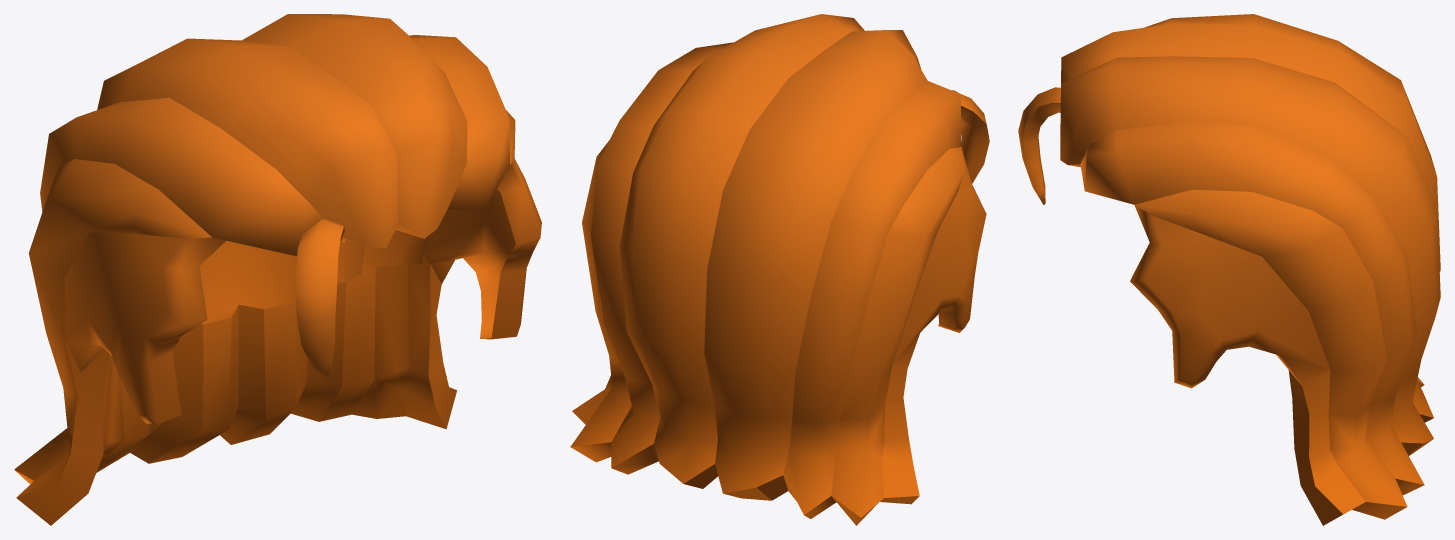
The model's file is Hair_Orange_9.fbx.
3 renders of one model, left to right at view 1: azimuth 30°, elevation 25°; view 2: azimuth 150°, elevation 25°; view 3: azimuth 270°, elevation 25°, orthographic. The views are drawn at different scales.
Parts seen in each view (by area): view 1: Hair_Orange_9; view 2: Hair_Orange_9; view 3: Hair_Orange_9.
Boxes of the visible parts, x1=… form: Hair_Orange_9: x1=14, y1=14, x2=541, y2=525; Hair_Orange_9: x1=570, y1=14, x2=989, y2=525; Hair_Orange_9: x1=1018, y1=14, x2=1440, y2=525.
Bounding box in the file's own units: 58.08 × 61.17 × 57.42.
